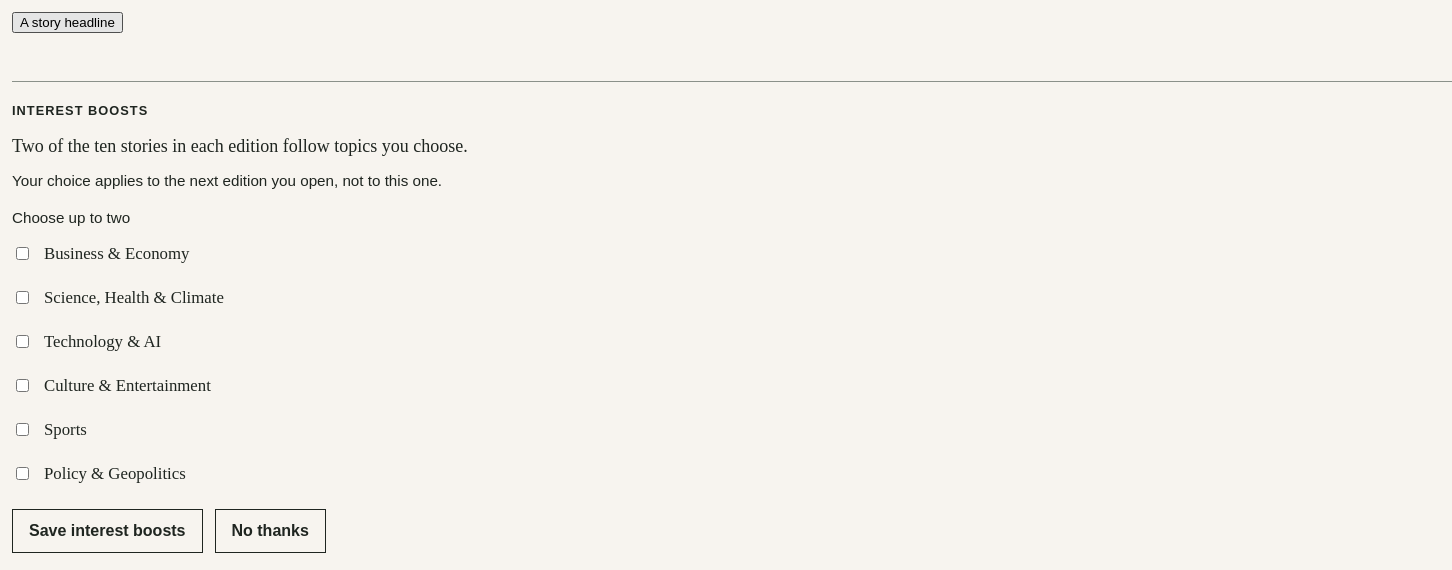
Test: where focus goes › moves to the control that replaced Save, rather than dropping to the body
Click the checkbox labelled "Sports" at x=22, y=430, box [16,423,29,436]
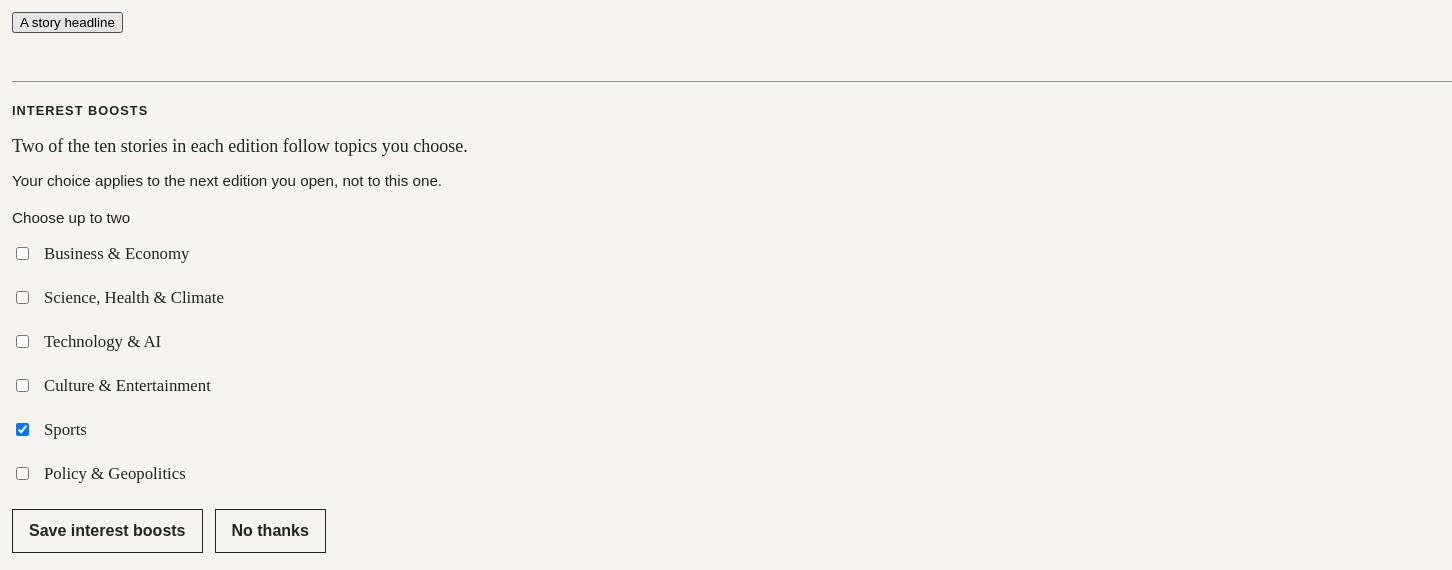
Click the button "Save interest boosts" at x=107, y=531, box [12,509,202,553]
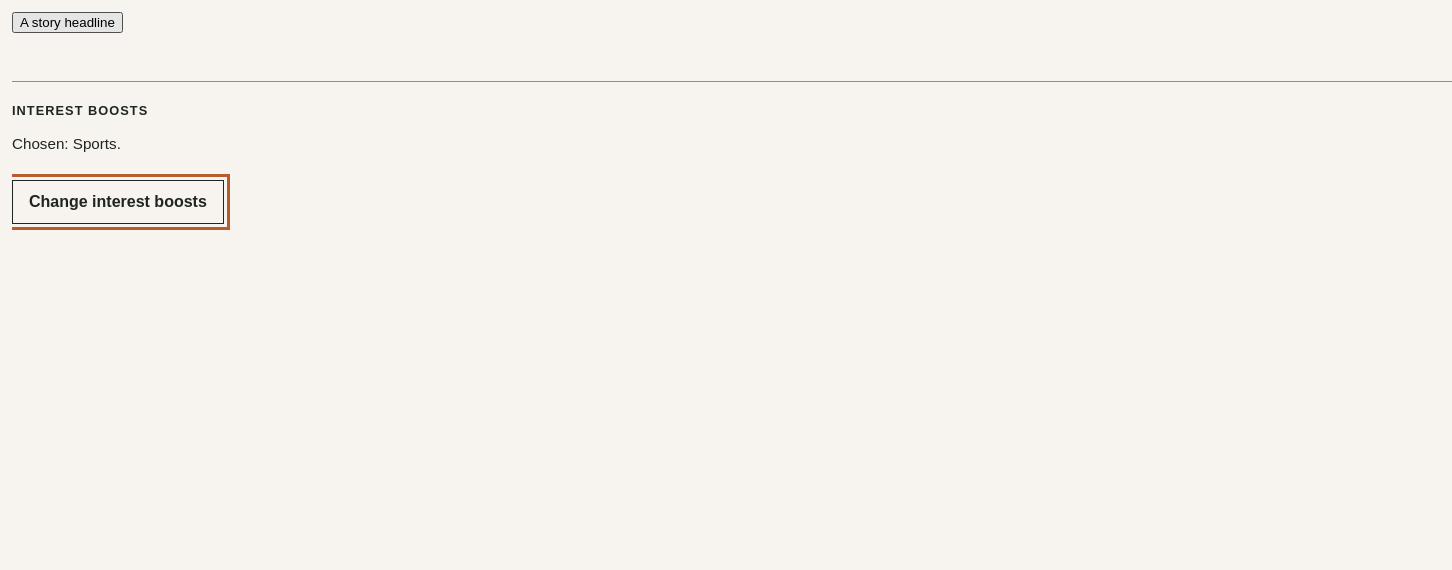
expect the element with class "interest-boosts" shows "Chosen: Sports.": met, box [12,135,121,152]
